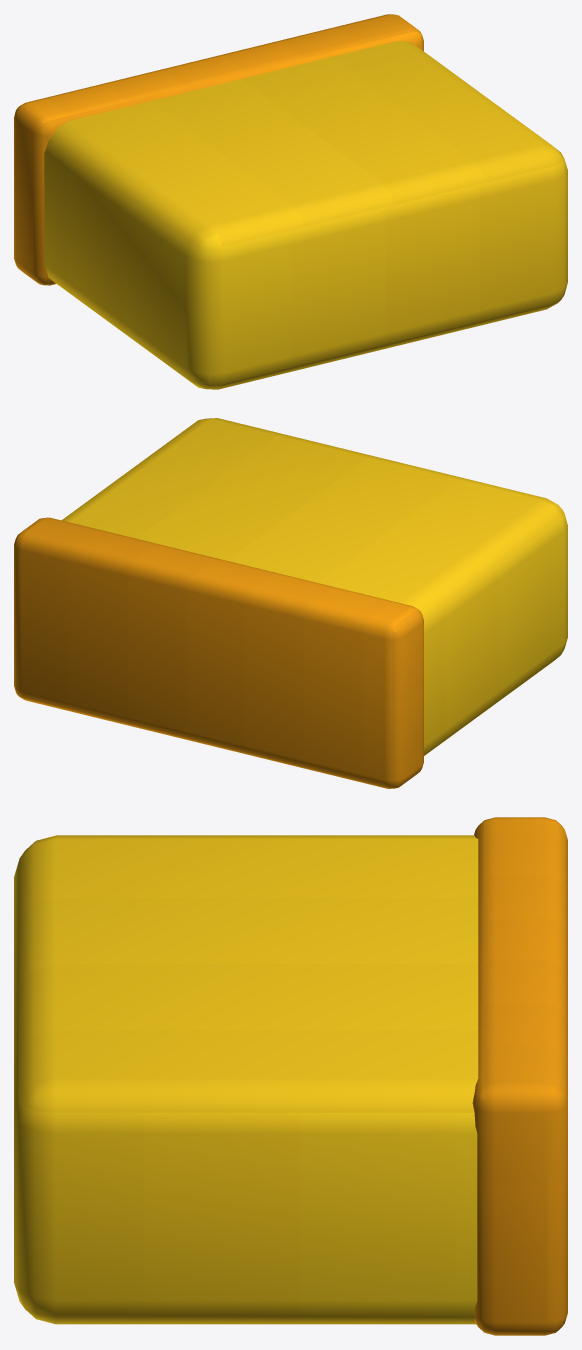
The model's file is cheese.glb.
The picture shows the model from 3 angles, top to bottom: view 1: azimuth 30°, elevation 25°; view 2: azimuth 150°, elevation 25°; view 3: azimuth 270°, elevation 25°; orthographic projection. The views are drawn at different scales.
Parts seen in each view (by area): view 1: CheeseBlock, CheeseRindBack; view 2: CheeseRindBack, CheeseBlock; view 3: CheeseBlock, CheeseRindBack.
Boxes of the visible parts, left/top/right/bottom form: CheeseBlock: left=44, top=41, right=567, bottom=389; CheeseRindBack: left=14, top=14, right=423, bottom=285; CheeseRindBack: left=14, top=517, right=423, bottom=788; CheeseBlock: left=61, top=418, right=567, bottom=755; CheeseBlock: left=14, top=835, right=478, bottom=1324; CheeseRindBack: left=472, top=817, right=567, bottom=1335.
Bounding box in the file's own units: 0.35 × 0.145 × 0.29.
Materials: 2 (2 with a texture image).
